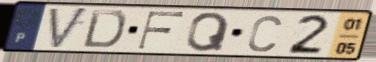2: (288, 13, 332, 56)
C: (246, 13, 284, 53)
D: (80, 8, 129, 50)
F: (135, 10, 187, 51)
Q: (185, 11, 232, 54)
V: (47, 6, 91, 51)
